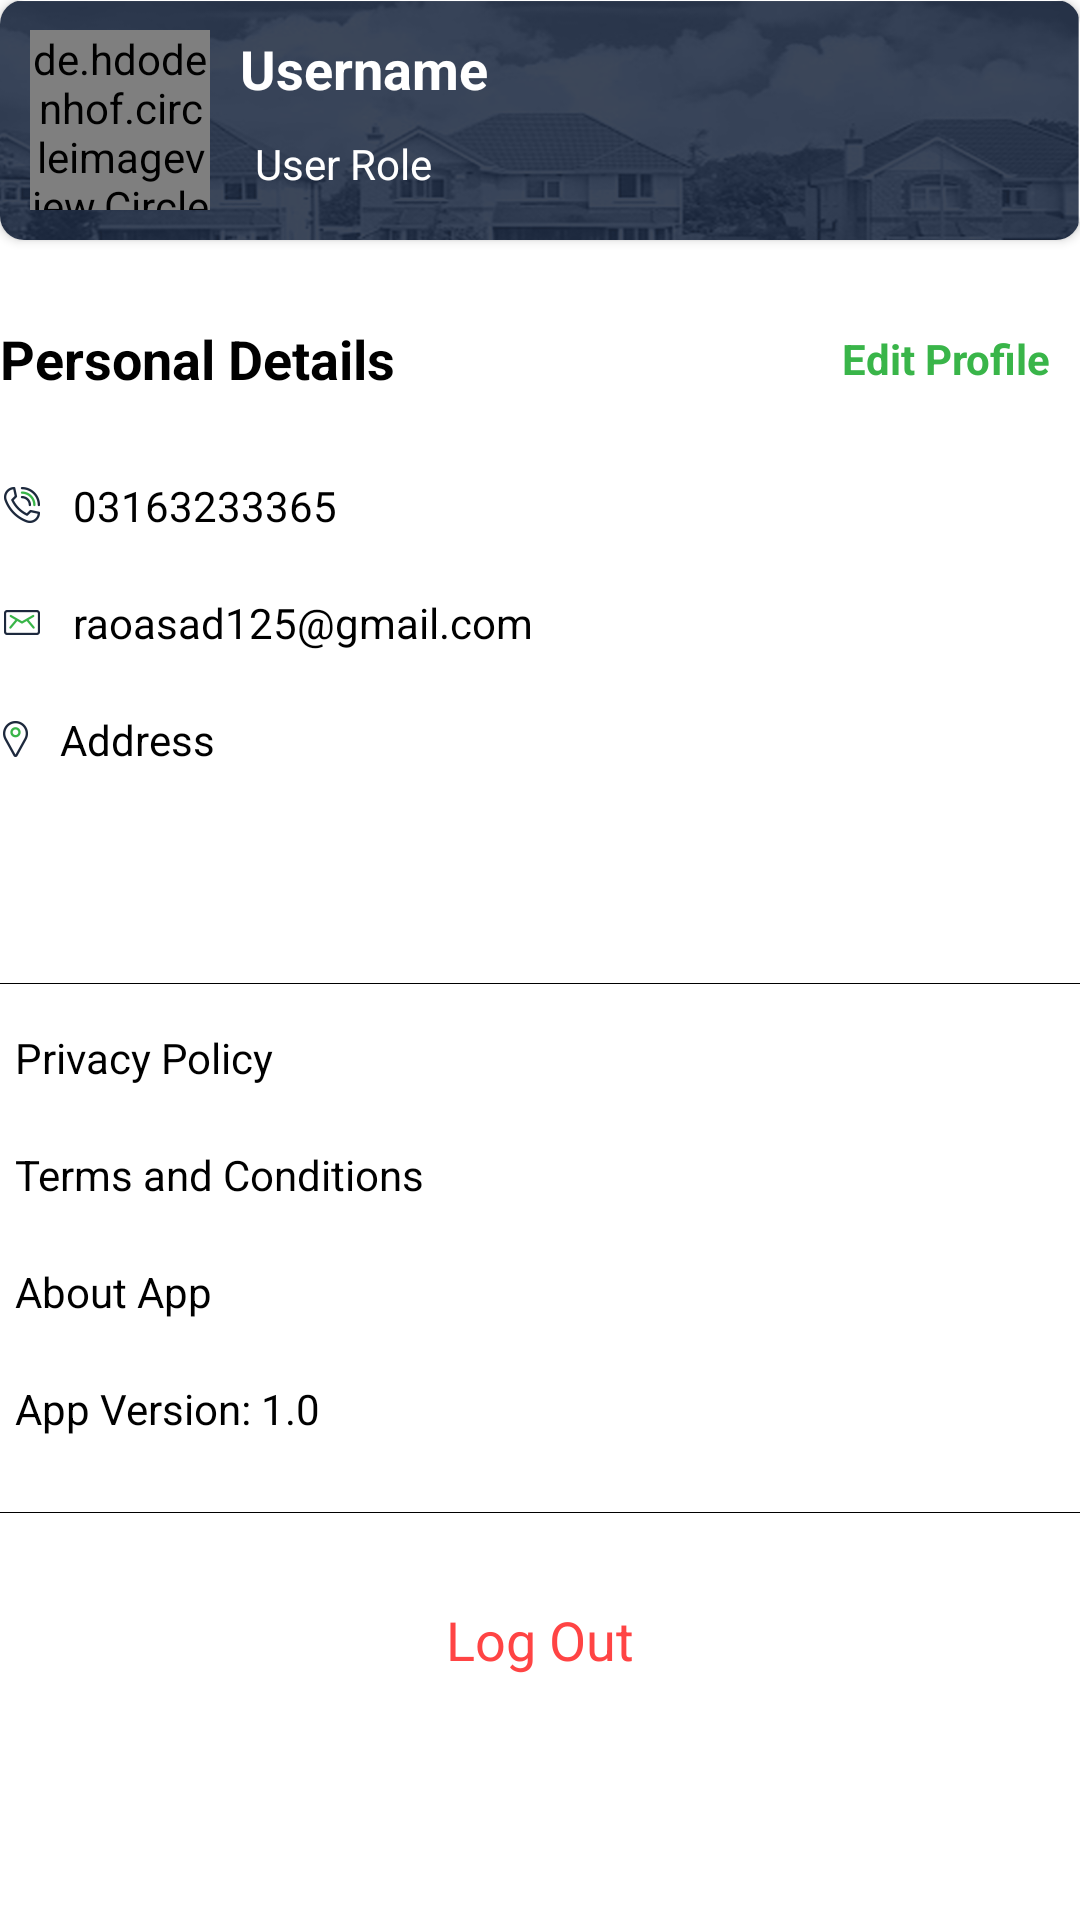

Icons on this 1080*1920 Android screen, each with the point to tap as (x=x, y=y):
call profile: (x=22, y=505)
email profile: (x=22, y=622)
location profile: (x=15, y=739)
